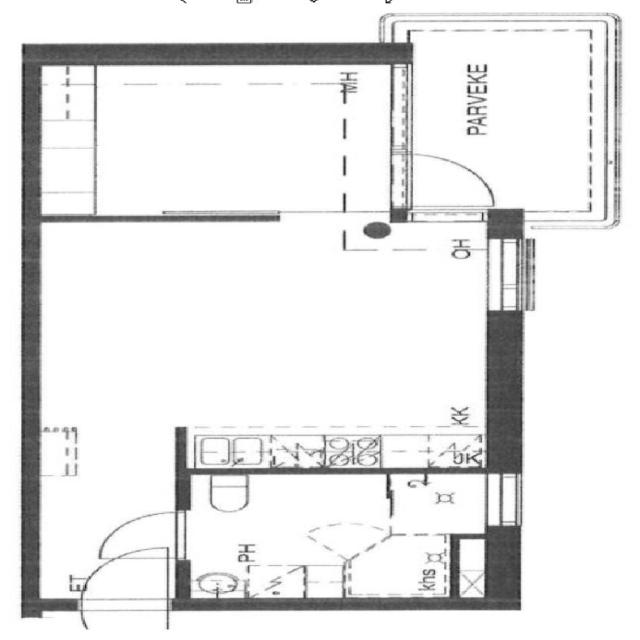door: (68, 547, 180, 639), (398, 148, 502, 223), (85, 505, 197, 563)
window: (476, 230, 539, 324), (381, 57, 424, 155), (480, 467, 530, 535)
zone: (37, 206, 513, 471), (36, 62, 360, 220), (401, 16, 611, 214), (175, 468, 452, 605), (67, 547, 180, 639), (386, 468, 502, 537)
